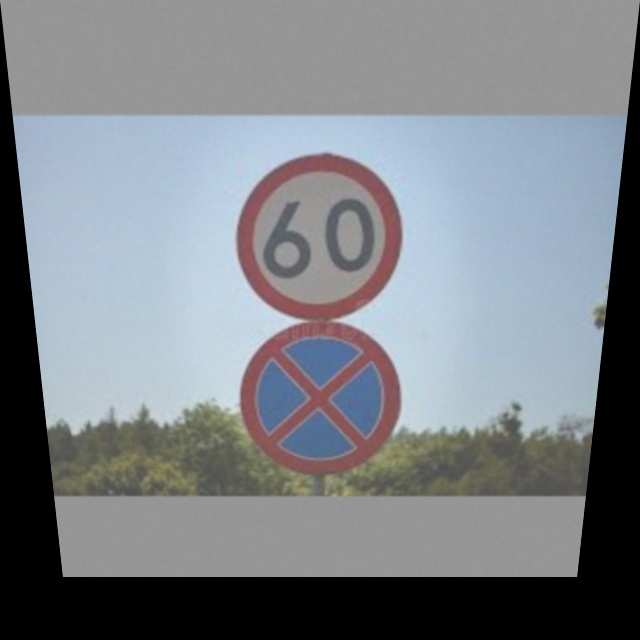Speed_Limit_60: (238, 154, 402, 320)
